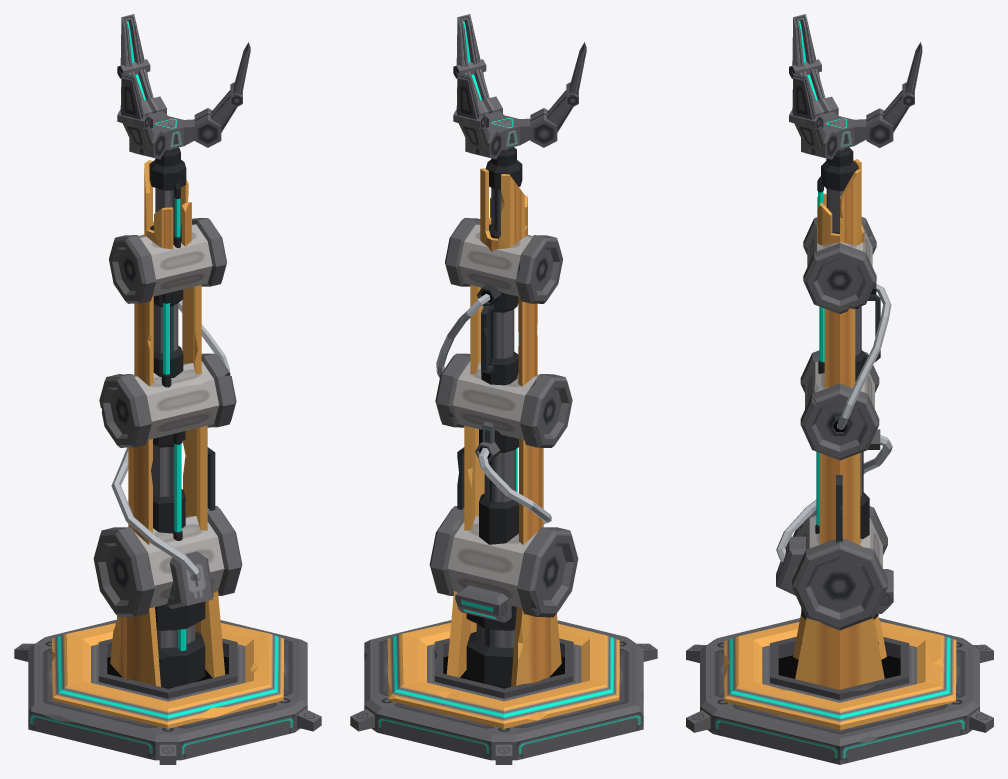
The model's file is SM_Prop_Assembly_Machine_01.fbx.
3 views of the same model, side by side, from view 1: azimuth 30°, elevation 25°; view 2: azimuth 150°, elevation 25°; view 3: azimuth 270°, elevation 25° (orthographic).
Parts seen in each view (by area): view 1: SM_Prop_Assembly_Machine_01, SM_Prop_Assembly_Machine_01_Arm_01, SM_Prop_Assembly_Machine_01_Arm_02, SM_Prop_Assembly_Machine_01_Arm_03, SM_Prop_Assembly_Machine_01_Claw_02, SM_Prop_Assembly_Machine_01_Claw_01, SM_Prop_Assembly_Machine_01_Claw_03, SM_Prop_Assembly_Machine_01_Claw_Base_01; view 2: SM_Prop_Assembly_Machine_01, SM_Prop_Assembly_Machine_01_Arm_01, SM_Prop_Assembly_Machine_01_Arm_02, SM_Prop_Assembly_Machine_01_Arm_03, SM_Prop_Assembly_Machine_01_Claw_01, SM_Prop_Assembly_Machine_01_Claw_03, SM_Prop_Assembly_Machine_01_Claw_02, SM_Prop_Assembly_Machine_01_Claw_Base_01; view 3: SM_Prop_Assembly_Machine_01, SM_Prop_Assembly_Machine_01_Arm_01, SM_Prop_Assembly_Machine_01_Arm_02, SM_Prop_Assembly_Machine_01_Arm_03, SM_Prop_Assembly_Machine_01_Claw_03, SM_Prop_Assembly_Machine_01_Claw_02, SM_Prop_Assembly_Machine_01_Claw_01, SM_Prop_Assembly_Machine_01_Claw_Base_01.
Boxes of the visible parts, bbox=[...] form: SM_Prop_Assembly_Machine_01: bbox=[14, 591, 321, 764]; SM_Prop_Assembly_Machine_01_Arm_01: bbox=[93, 425, 242, 617]; SM_Prop_Assembly_Machine_01_Arm_02: bbox=[99, 285, 236, 447]; SM_Prop_Assembly_Machine_01_Arm_03: bbox=[109, 147, 226, 303]; SM_Prop_Assembly_Machine_01_Claw_02: bbox=[117, 73, 166, 159]; SM_Prop_Assembly_Machine_01_Claw_01: bbox=[117, 14, 166, 115]; SM_Prop_Assembly_Machine_01_Claw_03: bbox=[194, 42, 250, 147]; SM_Prop_Assembly_Machine_01_Claw_Base_01: bbox=[147, 111, 194, 149]; SM_Prop_Assembly_Machine_01: bbox=[350, 585, 657, 764]; SM_Prop_Assembly_Machine_01_Arm_01: bbox=[429, 421, 578, 617]; SM_Prop_Assembly_Machine_01_Arm_02: bbox=[435, 284, 572, 447]; SM_Prop_Assembly_Machine_01_Arm_03: bbox=[445, 147, 562, 303]; SM_Prop_Assembly_Machine_01_Claw_01: bbox=[453, 73, 502, 159]; SM_Prop_Assembly_Machine_01_Claw_03: bbox=[453, 14, 502, 115]; SM_Prop_Assembly_Machine_01_Claw_02: bbox=[530, 42, 586, 147]; SM_Prop_Assembly_Machine_01_Claw_Base_01: bbox=[484, 111, 530, 148]; SM_Prop_Assembly_Machine_01: bbox=[686, 569, 993, 764]; SM_Prop_Assembly_Machine_01_Arm_01: bbox=[776, 429, 892, 630]; SM_Prop_Assembly_Machine_01_Arm_02: bbox=[800, 274, 891, 460]; SM_Prop_Assembly_Machine_01_Arm_03: bbox=[803, 147, 876, 313]; SM_Prop_Assembly_Machine_01_Claw_03: bbox=[789, 73, 838, 159]; SM_Prop_Assembly_Machine_01_Claw_02: bbox=[789, 14, 838, 115]; SM_Prop_Assembly_Machine_01_Claw_01: bbox=[866, 42, 922, 147]; SM_Prop_Assembly_Machine_01_Claw_Base_01: bbox=[818, 111, 866, 149].
Bounding box in the file's own units: 138 × 306 × 131.
